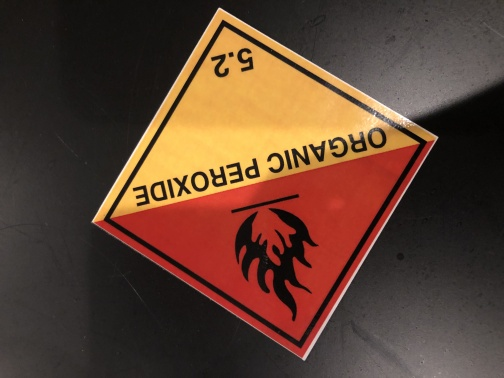OrganicPeroxide: (87, 9, 437, 359)
